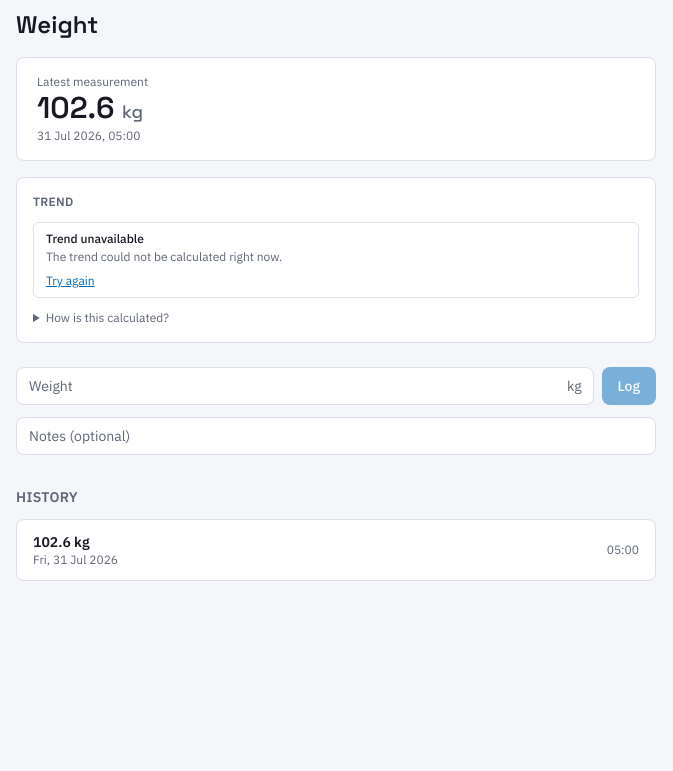
Test case: retryable backend error › shows retry action and re-fetches on click
Expected: the text "Trend unavailable" is shown, [46,231,144,246]
Click the button "Try again": {"x": 70, "y": 281} [46,273,95,289]
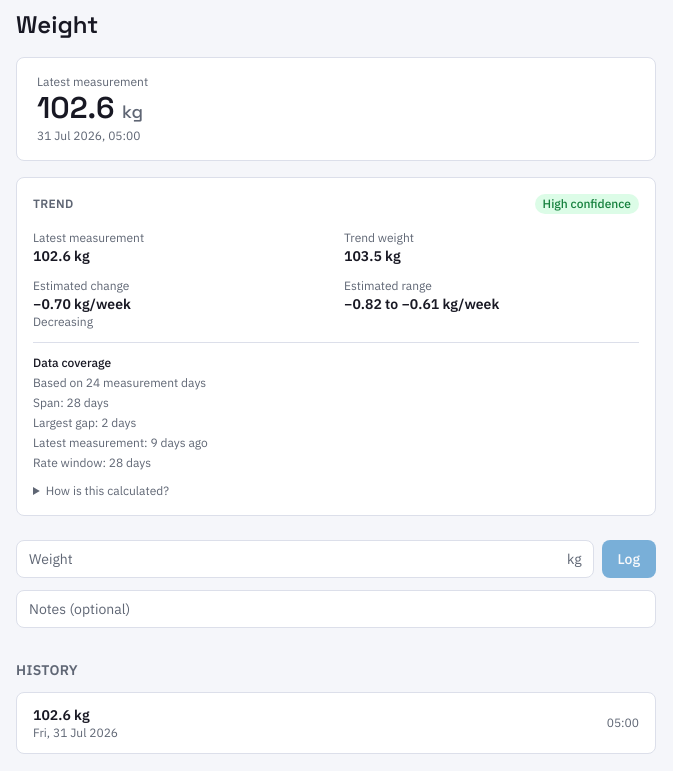
Now the text "Trend unavailable" is gone
